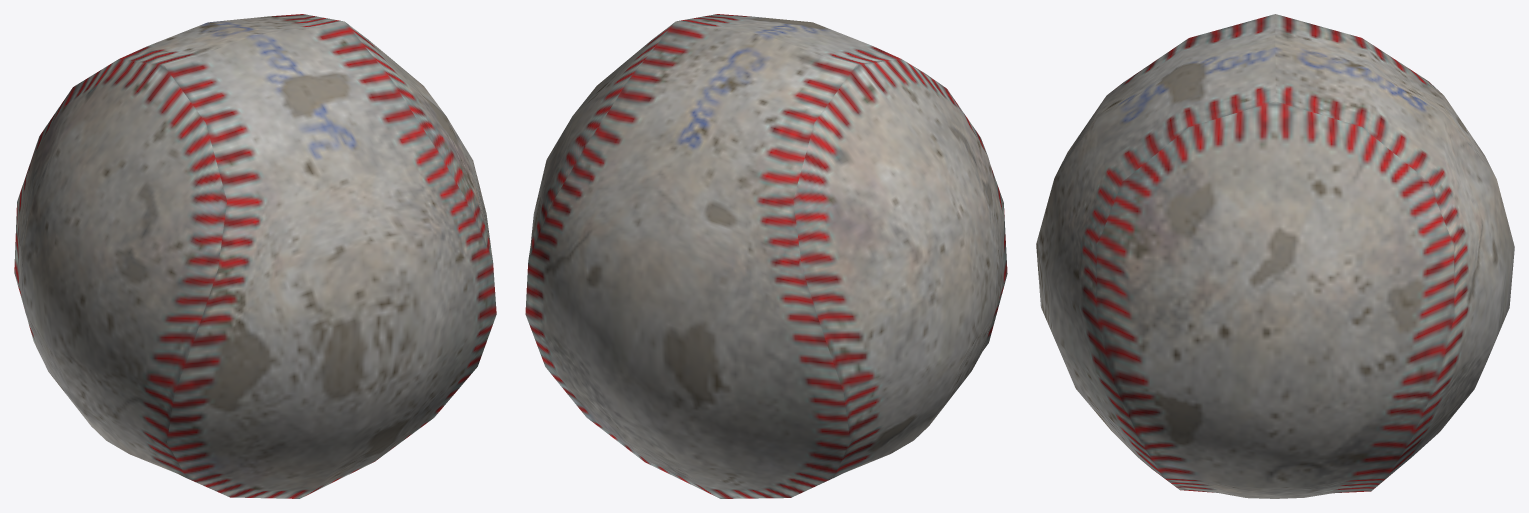
File: Baseball_ball.FBX
The picture shows the model from 3 angles, left to right: view 1: azimuth 30°, elevation 25°; view 2: azimuth 150°, elevation 25°; view 3: azimuth 270°, elevation 25°; orthographic projection.
Visible parts, largest first — view 1: Object001; view 2: Object001; view 3: Object001.
Part boxes in pixels (x1,y1,x2,y2): Object001: [14, 14, 496, 498]; Object001: [525, 14, 1007, 498]; Object001: [1036, 14, 1514, 498].
Bounding box in the file's own units: 7.46 × 7.52 × 7.57.
